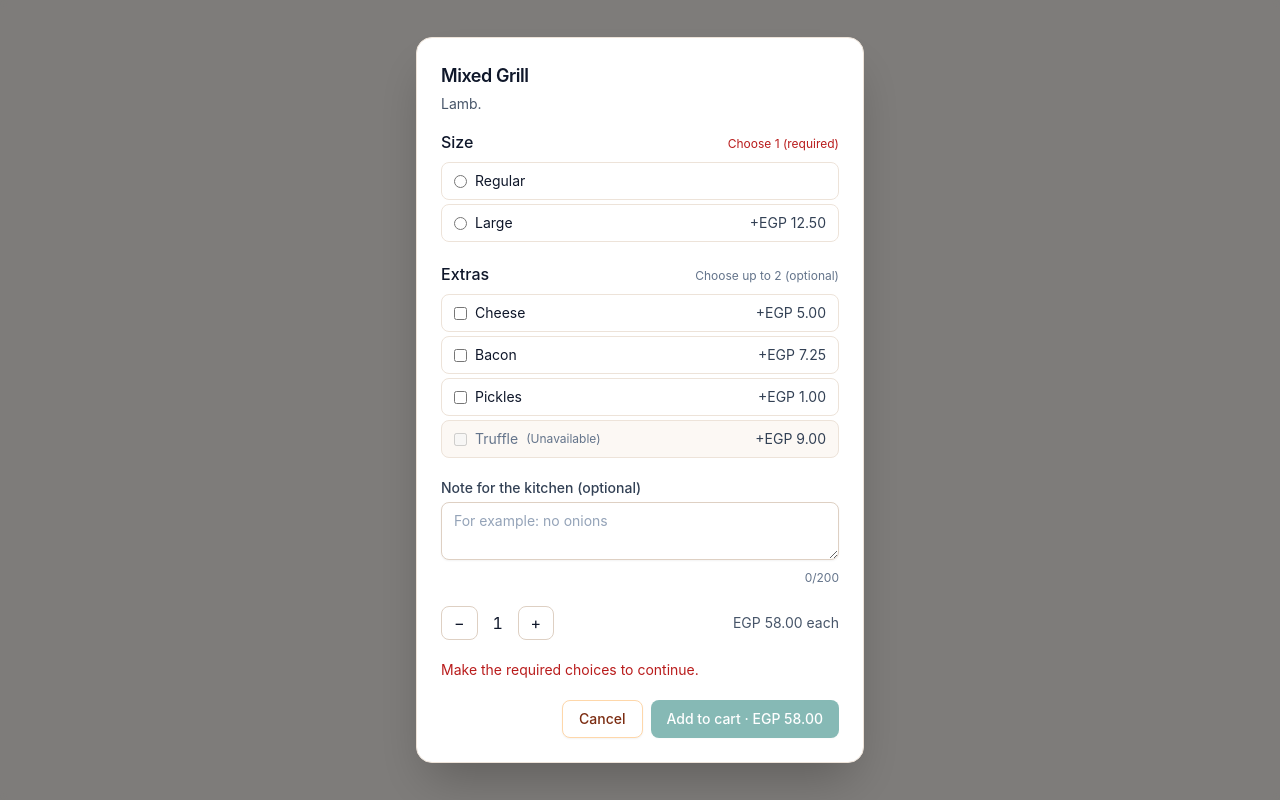
Test: ItemOptionsDialog › updates the price as options are chosen
Click the radio button labelled "Large +EGP 12.50" at (460, 223), box [454, 216, 467, 230]
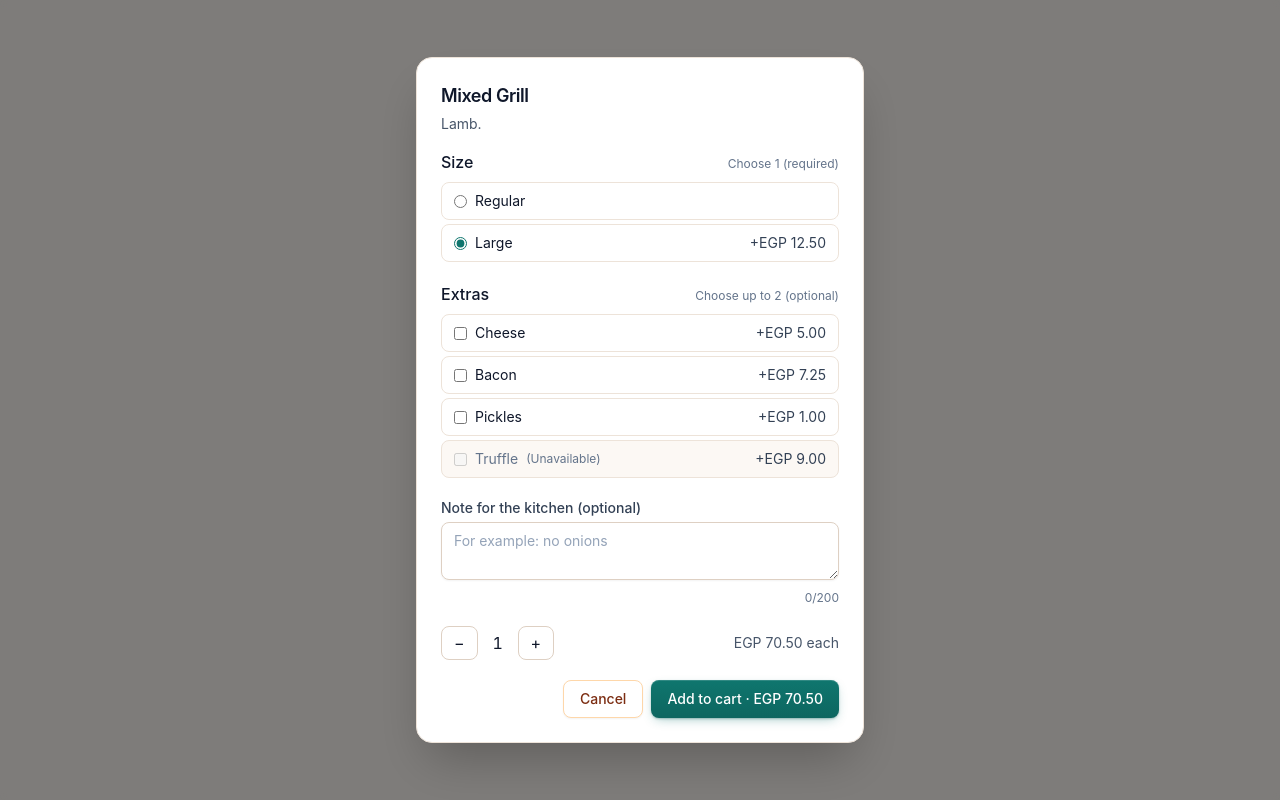
Expected: the text "70.50" is shown, [734, 634, 839, 651]
Click the checkbox labelled "Cheese +EGP 5.00" at (460, 333), box [454, 326, 467, 340]
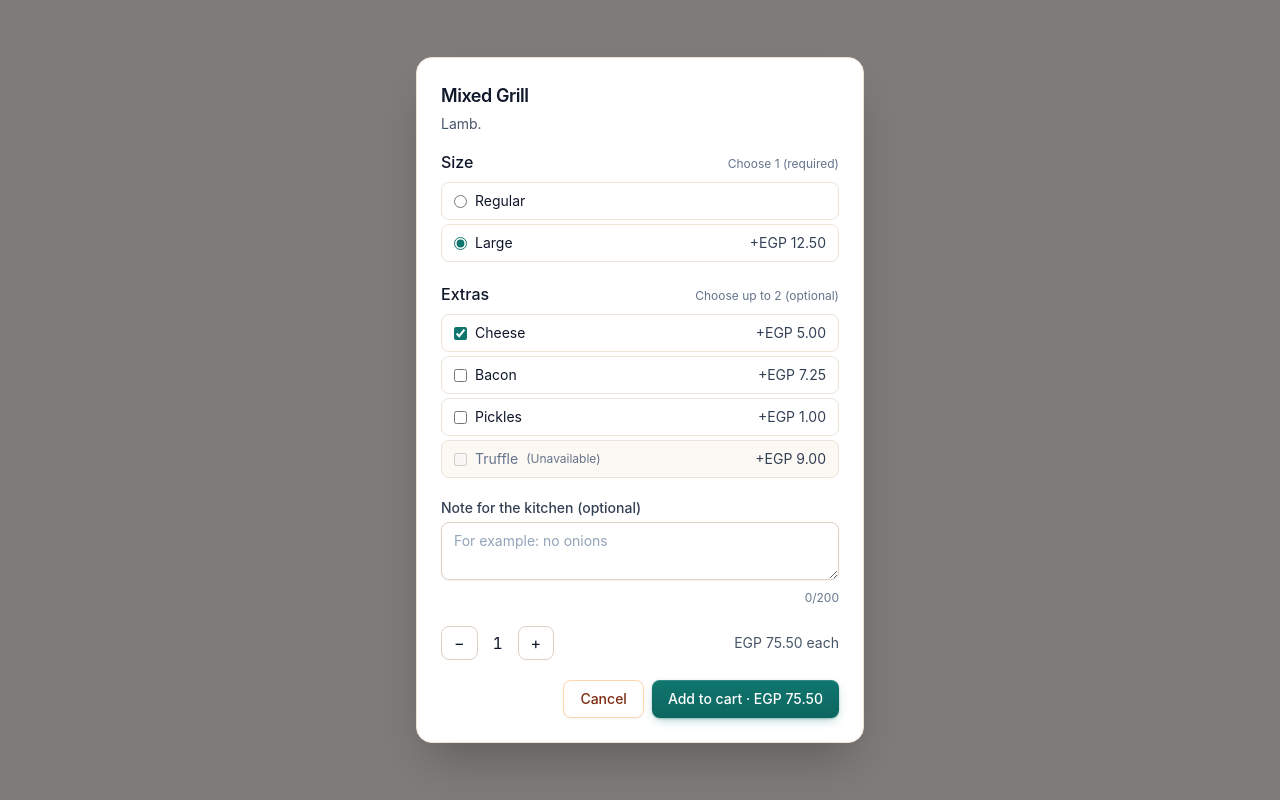
Expected: the text "75.50" is shown, [734, 634, 839, 651]
